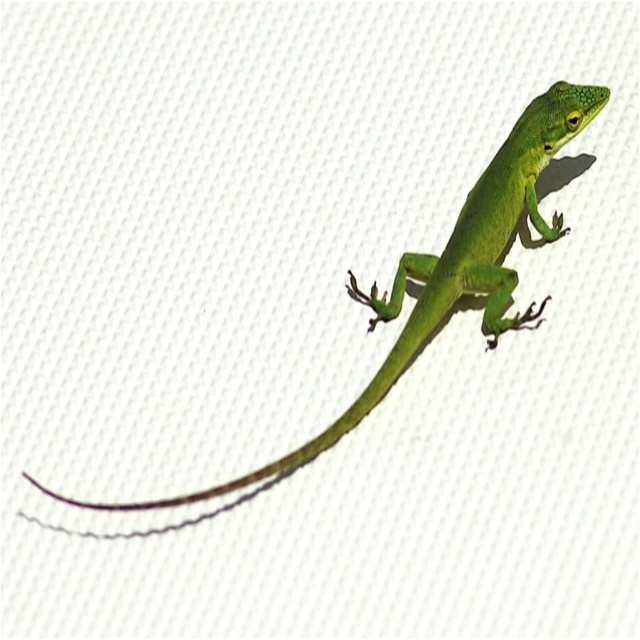Lizard: (338, 68, 614, 443)
